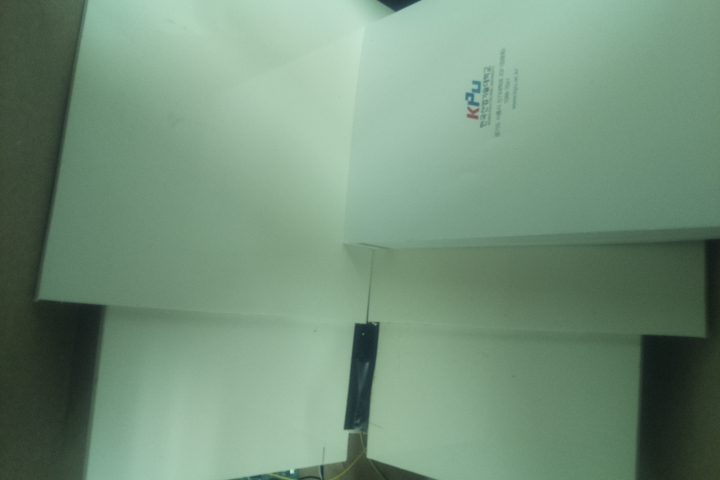book: (337, 1, 720, 253)
